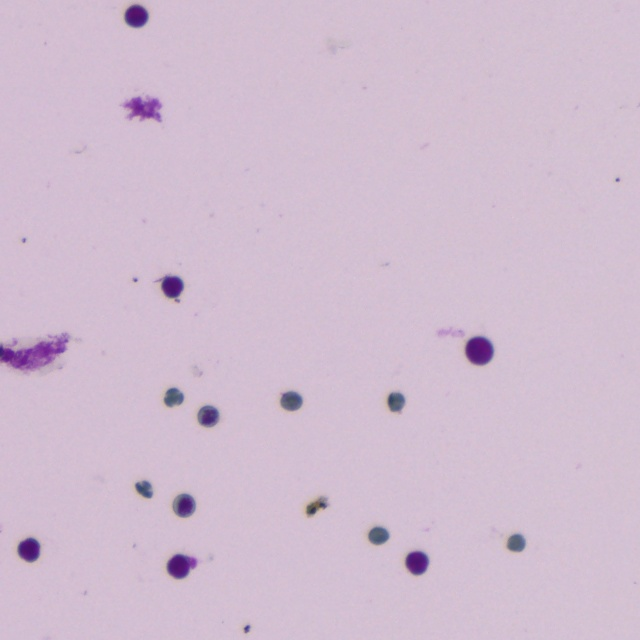intermediate: (173, 494, 194, 516)
non_viable: (198, 406, 218, 426), (280, 392, 302, 410), (164, 388, 183, 406), (368, 527, 388, 544), (387, 393, 404, 411), (507, 534, 524, 551), (135, 481, 152, 497)
viable: (465, 337, 492, 364), (167, 554, 195, 578), (405, 551, 428, 574), (18, 538, 39, 561), (125, 5, 147, 26), (161, 276, 182, 297)
